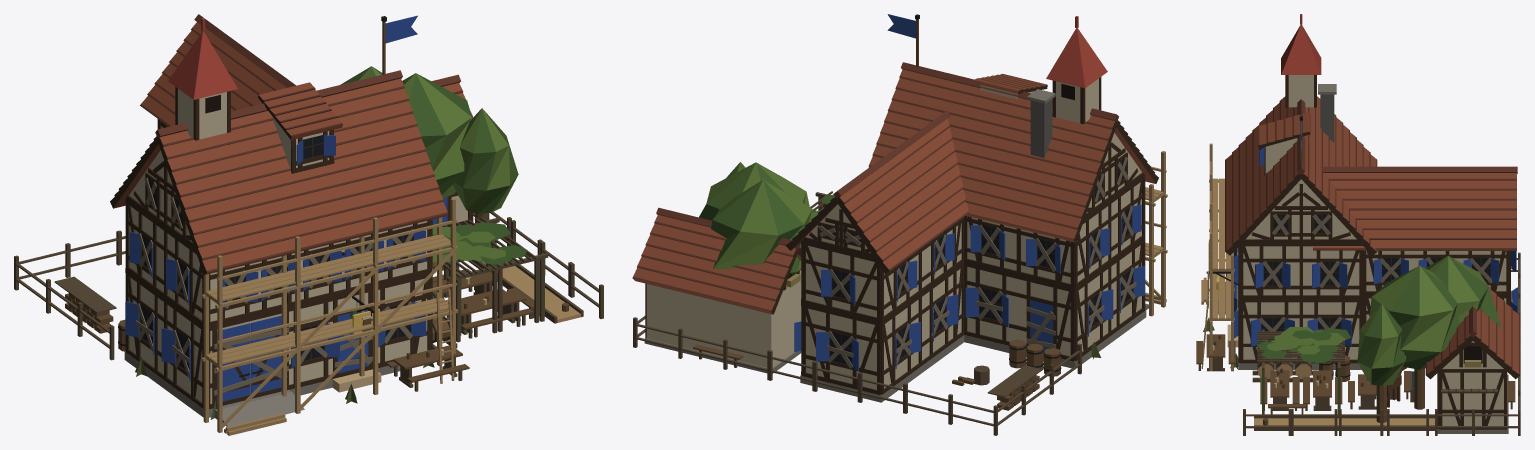
File: wirt.glb
3 renders of one model, left to right at view 1: azimuth 30°, elevation 25°; view 2: azimuth 150°, elevation 25°; view 3: azimuth 270°, elevation 25°, orthographic. The views are drawn at different scales.
Visible parts, largest first — view 1: Haus, Geruest, Stufe3, Stufe2, Stufe1, Leerstand, Laubkrone_Stufe1, Laubkrone_Stufe3, Fahne; view 2: Haus, Stufe3, Stufe1, Laubkrone_Stufe2, Leerstand, Laubkrone_Stufe1, Geruest, Stufe2, Fahne; view 3: Haus, Stufe3, Stufe2, Stufe1, Laubkrone_Stufe1, Geruest, Laubkrone_Stufe3, Laubkrone_Stufe2, Leerstand.
Boxes of the visible parts, x1,y1,x2,y2 form: Haus: [110, 14, 448, 426]; Geruest: [201, 198, 457, 435]; Stufe3: [19, 18, 598, 342]; Stufe2: [258, 82, 583, 338]; Stufe1: [14, 212, 603, 391]; Leerstand: [135, 178, 434, 419]; Laubkrone_Stufe1: [402, 73, 472, 198]; Laubkrone_Stufe3: [452, 108, 518, 214]; Fahne: [381, 15, 417, 75]; Haus: [785, 62, 1158, 402]; Stufe3: [632, 16, 1107, 425]; Stufe1: [633, 316, 1081, 435]; Laubkrone_Stufe2: [711, 179, 813, 275]; Leerstand: [819, 157, 1136, 368]; Laubkrone_Stufe1: [699, 162, 809, 220]; Geruest: [1145, 151, 1167, 316]; Stufe2: [693, 73, 1047, 367]; Fahne: [887, 14, 919, 67]; Haus: [1206, 84, 1517, 369]; Stufe3: [1246, 14, 1520, 435]; Stufe2: [1254, 112, 1515, 430]; Stufe1: [1196, 252, 1520, 435]; Laubkrone_Stufe1: [1369, 265, 1459, 369]; Geruest: [1201, 143, 1234, 371]; Laubkrone_Stufe3: [1357, 303, 1406, 385]; Laubkrone_Stufe2: [1425, 255, 1501, 327]; Leerstand: [1203, 214, 1512, 369].
Bounding box in the file's own units: 15.79 × 13.17 × 13.69.
